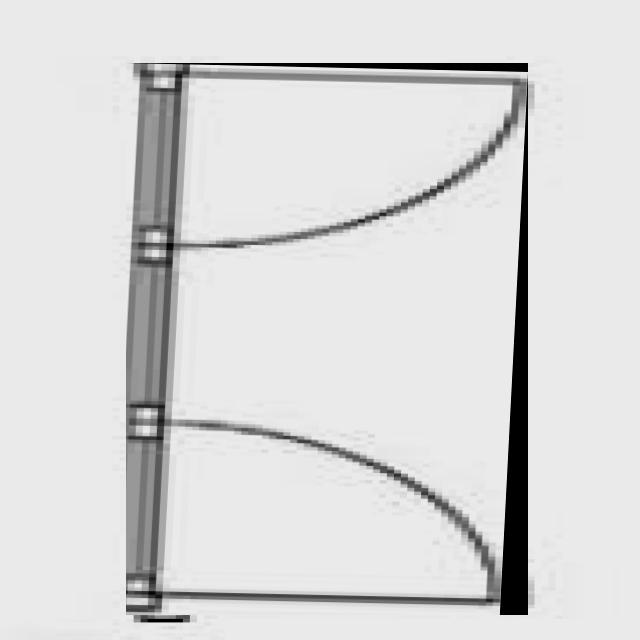door: (126, 64, 528, 616)
